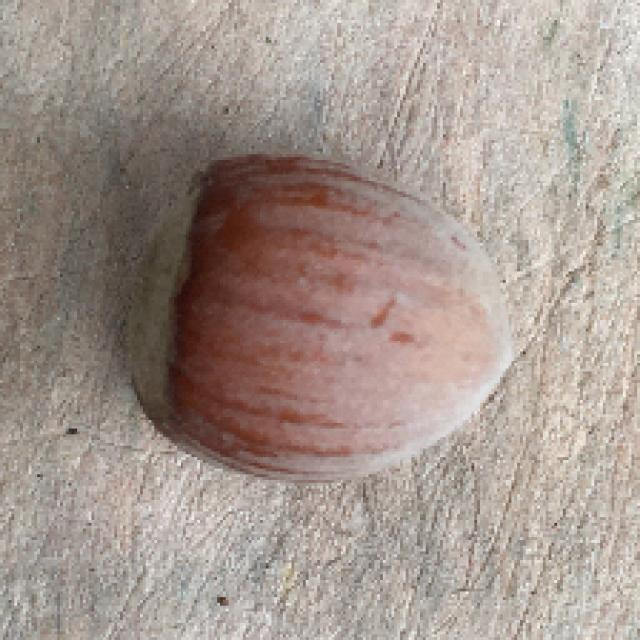qualityHazelnut: (118, 141, 524, 491)
